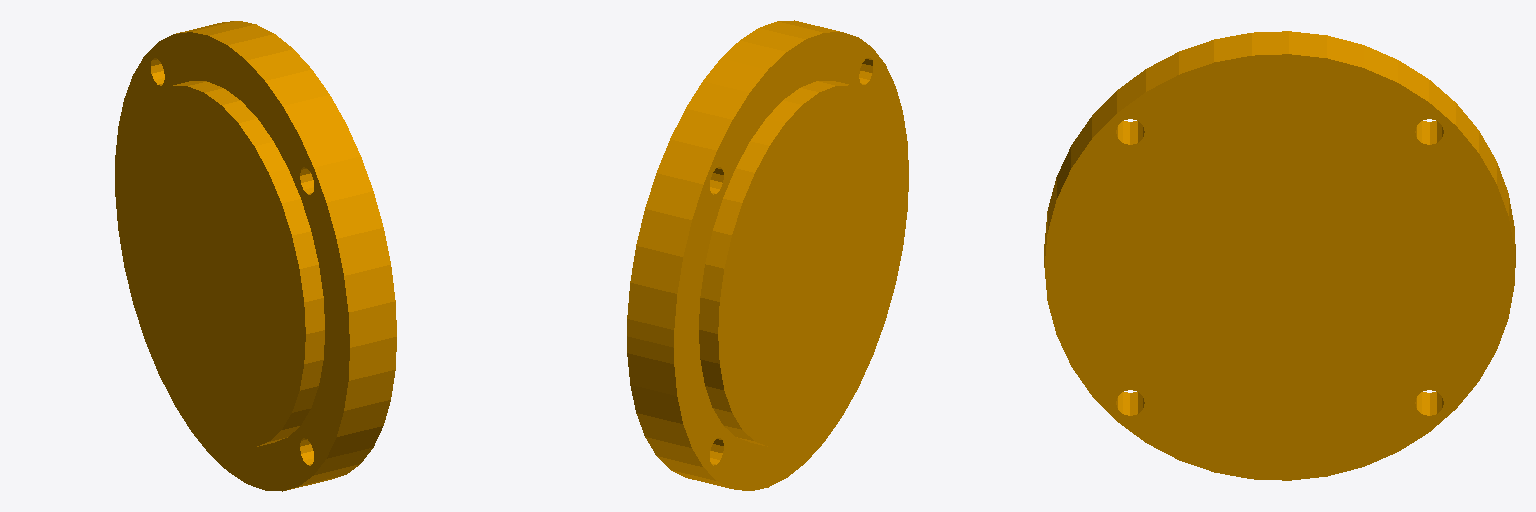
robot.urdf — arm:
<?xml version="1.0"?>
<robot name="arm"
	xmlns:sensor="http://playerstage.sourceforge.net/gazebo/xmlschema/#sensor"
	xmlns:controller="http://playerstage.sourceforge.net/gazebo/xmlschema/#controller"
	xmlns:interface="http://playerstage.sourceforge.net/gazebo/xmlschema/#interface">

	<!-- ################################################################################# -->
	<!-- add links-->
	<link name="link_arm0">
		<inertial>
			<origin xyz="0 0 0" rpy="0 0 0" />
			<mass value="1.8"/>
			<inertia ixx="0.01"  ixy="0"  ixz="0" iyy="0.01" iyz="0" izz="0.01" />
		</inertial>
		<visual>
			<origin xyz="0 0 0" rpy="1.5707963 0 0" />
			<geometry>
				<mesh filename="package://cob_defs/common/files/meshes/arm0.stl" />
			</geometry>
		</visual>
		<collision>
			<origin xyz="0 0 0" rpy="1.5707963 0 0" />
			<geometry>
				<mesh filename="package://cob_defs/common/files/meshes/arm0.stl" />
			</geometry>
		</collision>
	</link>
	
	<link name="link_arm1">
		<inertial>
			<origin xyz="0 0 0" rpy="0 0 0"/>
			<mass value="3.6"/>
			<inertia ixx="0.01"  ixy="0"  ixz="0" iyy="0.01" iyz="0" izz="0.01" />
		</inertial>
		<visual>
			<origin xyz="0 0 0" rpy="0 0 0" />
			<geometry>
				<mesh filename="package://cob_defs/common/files/meshes/arm1.stl" />
			</geometry>
		</visual>
		<collision>
			<origin xyz="0 0 0" rpy="0 0 0" />
			<geometry>
				<mesh filename="package://cob_defs/common/files/meshes/arm1.stl"/>
			</geometry>
		</collision>
	</link>
	
	<link name="link_arm2">
		<inertial>
			<origin xyz="0 0 0" rpy="0 0 0"/>
			<mass value="2.8"/>
			<inertia ixx="0.01"  ixy="0"  ixz="0" iyy="0.01" iyz="0" izz="0.01" />
		</inertial>
		<visual>
			<origin xyz="0 0 0" rpy="0 0 0" />
			<geometry>
				<mesh filename="package://cob_defs/common/files/meshes/arm2.stl" />
			</geometry>
		</visual>
		<collision>
			<origin xyz="0 0 0" rpy="0 0 0" />
			<geometry>
				<mesh filename="package://cob_defs/common/files/meshes/arm2.stl"/>
			</geometry>
		</collision>
	</link>
	
	<link name="link_arm3">
		<inertial>
			<origin xyz="0 0 0" rpy="0 0 0"/>
			<mass value="2.0"/>
			<inertia ixx="0.01"  ixy="0"  ixz="0" iyy="0.01" iyz="0" izz="0.01" />
		</inertial>
		<visual>
			<origin xyz="0 0 0" rpy="0 0 0" />
			<geometry>
				<mesh filename="package://cob_defs/common/files/meshes/arm3.stl" />
			</geometry>
		</visual>
		<collision>
			<origin xyz="0 0 0" rpy="0 0 0" />
			<geometry>
				<mesh filename="package://cob_defs/common/files/meshes/arm3.stl"/>
			</geometry>
		</collision>
	</link>
	
	<link name="link_arm4">
		<inertial>
			<origin xyz="0 0 0" rpy="0 0 0"/>
			<mass value="1.6"/>
			<inertia ixx="0.01"  ixy="0"  ixz="0" iyy="0.01" iyz="0" izz="0.01" />
		</inertial>
		<visual>
			<origin xyz="0 0 0" rpy="0 0 0" />
			<geometry>
				<mesh filename="package://cob_defs/common/files/meshes/arm4.stl" />
			</geometry>
		</visual>
		<collision>
			<origin xyz="0 0 0" rpy="0 0 0" />
			<geometry>
				<mesh filename="package://cob_defs/common/files/meshes/arm4.stl"/>
			</geometry>
		</collision>
	</link>
	
	<link name="link_arm5">
		<inertial>
			<origin xyz="0 0 0" rpy="0 0 0"/>
			<mass value="1.2"/>
			<inertia ixx="0.01"  ixy="0"  ixz="0" iyy="0.01" iyz="0" izz="0.01" />
		</inertial>
		<visual>
			<origin xyz="0 0 0" rpy="0 0 0" />
			<geometry>
				<mesh filename="package://cob_defs/common/files/meshes/arm5.stl" />
			</geometry>
		</visual>
		<collision>
			<origin xyz="0 0 0" rpy="0 0 0" />
			<geometry>
				<mesh filename="package://cob_defs/common/files/meshes/arm5.stl"/>
			</geometry>
		</collision>
	</link>
	
	<link name="link_arm6">
		<inertial>
			<origin xyz="0 0 0" rpy="0 0 0"/>
			<mass value="1.1"/>
			<inertia ixx="0.01"  ixy="0"  ixz="0" iyy="0.01" iyz="0" izz="0.01" />
		</inertial>
		<visual>
			<origin xyz="0 0 0" rpy="0 0 0" />
			<geometry>
				<mesh filename="package://cob_defs/common/files/meshes/arm6.stl" />
			</geometry>
		</visual>
		<collision>
			<origin xyz="0 0 0" rpy="0 0 0" />
			<geometry>
				<mesh filename="package://cob_defs/common/files/meshes/arm6.stl"/>
			</geometry>
		</collision>
	</link>
	
	<link name="link_arm7">
		<inertial>
			<origin xyz="0 0 0" rpy="0 0 0"/>
			<mass value="0.5"/>
			<inertia ixx="0.01"  ixy="0"  ixz="0" iyy="0.01" iyz="0" izz="0.01" />
		</inertial>
		<visual>
			<origin xyz="0 0 0" rpy="0 0 0" />
			<geometry>
				<mesh filename="package://cob_defs/common/files/meshes/arm7.stl" />
			</geometry>
		</visual>
		<collision>
			<origin xyz="0 0 0" rpy="0 0 0" />
			<geometry>
				<mesh filename="package://cob_defs/common/files/meshes/arm7.stl"/>
			</geometry>
		</collision>
	</link>

	<gazebo reference="link_arm0">
		<material>Gazebo/Grey</material>
		<turnGravityOff>false</turnGravityOff>
	</gazebo>

	<gazebo reference="link_arm1">
		<material>Gazebo/Grey</material>
		<turnGravityOff>false</turnGravityOff>
	</gazebo>
	
	<gazebo reference="link_arm2">
		<material>Gazebo/Red</material>
		<turnGravityOff>false</turnGravityOff>
	</gazebo>
	
	<gazebo reference="link_arm3">
		<material>Gazebo/Grey</material>
		<turnGravityOff>false</turnGravityOff>
	</gazebo>
	
	<gazebo reference="link_arm4">
		<material>Gazebo/Red</material>
		<turnGravityOff>false</turnGravityOff>
	</gazebo>

	<gazebo reference="link_arm5">
		<material>Gazebo/Grey</material>
		<turnGravityOff>false</turnGravityOff>
	</gazebo>

	<gazebo reference="link_arm6">
		<material>Gazebo/Red</material>
		<turnGravityOff>false</turnGravityOff>
	</gazebo>

	<gazebo reference="link_arm7">
		<material>Gazebo/Grey</material>
		<turnGravityOff>false</turnGravityOff>
	</gazebo>

	<!-- ################################################################################# -->
	<!-- add joints, corresponding to powercubes PRL 120,120,100,100,80,80,60 -->
	<joint name="joint_arm1" type="revolute">
		<origin xyz="0 0 -0.25" rpy="0 0 0"/>
		<parent link="link_arm0"/>
		<child link="link_arm1"/>
		<axis xyz="0 0 1"/>
	    <calibration reference_position="8.11744"/>
		<limit effort="370" velocity="0.4363" lower="-6.2831853" upper="6.2831853"/> <!-- rads. effort is N-m applied force. vel is rad/s. -->
		<!--safety_controller k_position="10" k_velocity="10" soft_lower_limit="-6.2" soft_upper_limit="6.2"/-->
		<!--dynamics damping="10.0" friction="10.0"/-->
	</joint>
	
	<joint name="joint_arm2" type="revolute">
		<origin xyz="0 0 0" rpy="1.5708 0 0"/>
		<parent link="link_arm1"/>
		<child link="link_arm2"/>
		<axis xyz="0 0 1"/>
	    <calibration reference_position="0.615946"/>
		<limit effort="370" velocity="0.4363" lower="-2.0943951" upper="2.0943951"/> <!-- rads. effort is N-m applied force. vel is rad/s. -->
		<!--safety_controller k_position="10" k_velocity="10" soft_lower_limit="-2.0" soft_upper_limit="2.0"/-->
		<!--dynamics damping="10.0" friction="10.0"/-->
	</joint>

	<joint name="joint_arm3" type="revolute">
		<origin xyz="0 -0.408 0" rpy="-1.5708 0 0"/>
		<parent link="link_arm2"/>
		<child link="link_arm3"/>
		<axis xyz="0 0 1"/>
	    <calibration reference_position="-6.40961"/>
		<limit effort="176" velocity="0.4189" lower="-6.2831853" upper="6.2831853"/> <!-- rads. effort is N-m applied force. vel is rad/s. -->
		<!--safety_controller k_position="10" k_velocity="10" soft_lower_limit="-6.2" soft_upper_limit="6.2"/-->
		<!--dynamics damping="10.0" friction="10.0"/-->
	</joint>	

	<joint name="joint_arm4" type="revolute">
		<origin xyz="0 0 0" rpy="1.5708 0 0" />
		<parent link="link_arm3"/>
		<child link="link_arm4"/>
		<axis xyz="0 0 1" />
	    <calibration reference_position="0.989523"/>
		<limit effort="176" velocity="0.4189" upper="2.0943951" lower="-2.0943951" /> <!-- rads. effort is N-m applied force. vel is rad/s. -->
		<!--safety_controller k_position="10" k_velocity="10" soft_lower_limit="-2.0" soft_upper_limit="2.0"/-->
		<!--dynamics damping="10.0" friction="10.0"/-->
	</joint>

	<joint name="joint_arm5" type="revolute">
		<origin xyz="0 -0.3165 0" rpy="-1.5708 0 0" />
		<parent link="link_arm4"/>
		<child link="link_arm5"/>
		<axis xyz="0 0 1" />
	    <calibration reference_position="-0.149973"/>
		<limit effort="41.6" velocity="0.4363" upper="6.2831853" lower="-6.2831853" /> <!-- rads. effort is N-m applied force. vel is rad/s. -->
		<!--safety_controller k_position="10" k_velocity="10" soft_lower_limit="-6.2" soft_upper_limit="6.2"/-->
		<!--dynamics damping="10.0" friction="10.0"/-->
	</joint>
	
	<joint name="joint_arm6" type="revolute">
		<origin xyz="0 0 0" rpy="1.5708 0 0" />
		<parent link="link_arm5"/>
		<child link="link_arm6"/>
		<axis xyz="0 0 1" />
	    <calibration reference_position="0.801978"/>
		<limit effort="20.1" velocity="0.4363" upper="2.0943951" lower="-2.0943951" /> <!-- rads. effort is N-m applied force. vel is rad/s. -->
		<!--safety_controller k_position="10" k_velocity="10" soft_lower_limit="-2.0" soft_upper_limit="2.0"/-->
		<!--dynamics damping="10.0" friction="10.0"/-->
	</joint>
	
	<joint name="joint_arm7" type="revolute">
		<origin xyz="0 -0.1927 0" rpy="-1.5708 0 0" />
		<parent link="link_arm6"/>
		<child link="link_arm7"/>
		<axis xyz="0 0 1" />
	    <calibration reference_position="6.80538"/>
		<limit effort="9.6" velocity="0.8727" upper="6.2831853" lower="-6.2831853" /> <!-- rads. effort is N-m applied force. vel is rad/s. -->
		<!--safety_controller k_position="10" k_velocity="10" soft_lower_limit="-6.2" soft_upper_limit="6.2"/-->
		<!--dynamics damping="10.0" friction="10.0"/-->
	</joint>

	<!-- ################################################################################# -->
	<!-- add transmissions -->
	<transmission name="trans_arm1" type="SimpleTransmission">
		<actuator name="motor_arm1"/>
		<joint name="joint_arm1"/>
		<mechanicalReduction>1</mechanicalReduction>
	</transmission>
	
	<transmission name="trans_arm2" type="SimpleTransmission">
		<actuator name="motor_arm2"/>
		<joint name="joint_arm2"/>
		<mechanicalReduction>1</mechanicalReduction>
	</transmission>
	
	<transmission name="trans_arm3" type="SimpleTransmission">
		<actuator name="motor_arm3"/>
		<joint name="joint_arm3"/>
		<mechanicalReduction>1</mechanicalReduction>
	</transmission>
	
	<transmission name="trans_arm4" type="SimpleTransmission">
		<actuator name="motor_arm4"/>
		<joint name="joint_arm4"/>
		<mechanicalReduction>1</mechanicalReduction>
	</transmission>
	
	<transmission name="trans_arm5" type="SimpleTransmission">
		<actuator name="motor_arm5"/>
		<joint name="joint_arm5"/>
		<mechanicalReduction>1</mechanicalReduction>
	</transmission>
	
	<transmission name="trans_arm6" type="SimpleTransmission">
		<actuator name="motor_arm6"/>
		<joint name="joint_arm6"/>
		<mechanicalReduction>1</mechanicalReduction>
	</transmission>
	
	<transmission name="trans_arm7" type="SimpleTransmission">
		<actuator name="motor_arm7"/>
		<joint name="joint_arm7"/>
		<mechanicalReduction>1</mechanicalReduction>
	</transmission>

</robot>

--- What the picture shows (computed from the rendered views, not written in the file) ---
Views: 3 orthographic renders of the robot side by side, from view 1: azimuth 30°, elevation 25°; view 2: azimuth 150°, elevation 25°; view 3: azimuth 270°, elevation 25°.
Model arm with 8 links and 7 joints (7 revolute), rooted at link_arm0, posed all joints at 0.
Visible links, largest first — view 1: link_arm0; view 2: link_arm0; view 3: link_arm0.
Link boxes in pixels (x1,y1,x2,y2): link_arm0: (115,21,396,491); link_arm0: (627,20,908,490); link_arm0: (1044,31,1515,480).
Size in the robot's own frame: 0.024 by 0.147 by 0.1469 metres.
Meshes: 8 distinct files referenced, 1 mesh visuals loaded (1 binary STL); not drawn: 7 (reference not matched to a file when rendering).